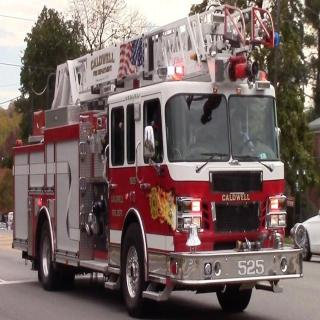Fire_truck: (11, 3, 304, 316)
